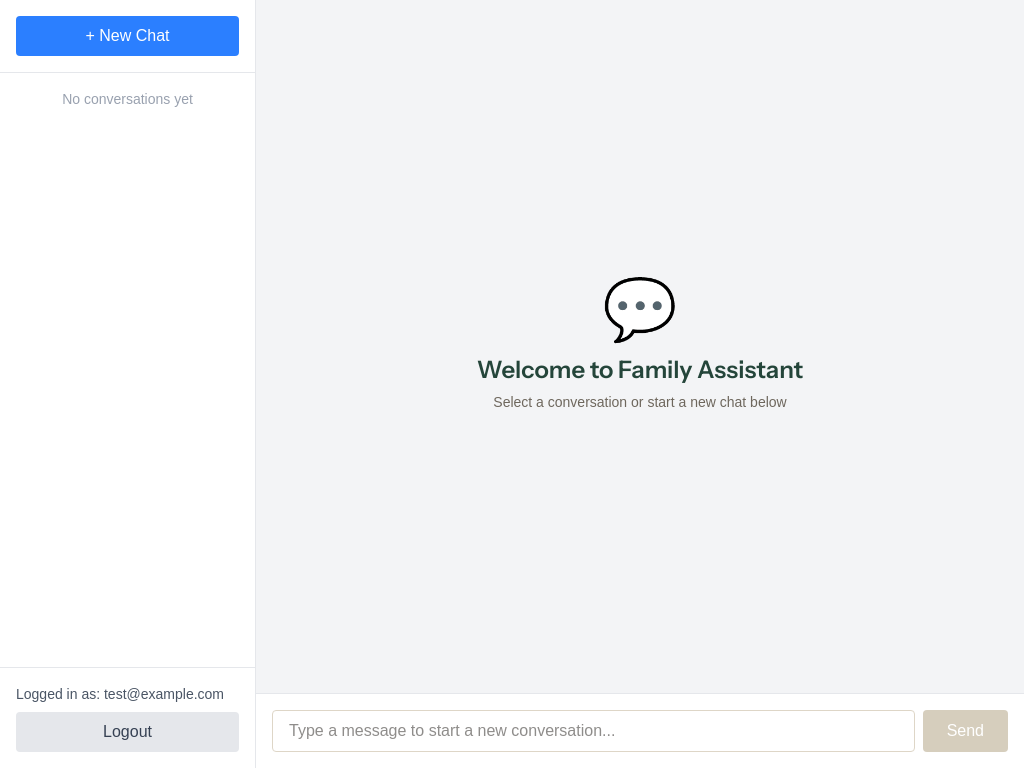
Test: ConversationsChat › New chat flow › shows a Stop button while streaming and aborts the stream when clicked
Type "Hello" into the field with placeholder "Type a message to start a new conversation...". click: (593,731)
box: [272,710,915,752]
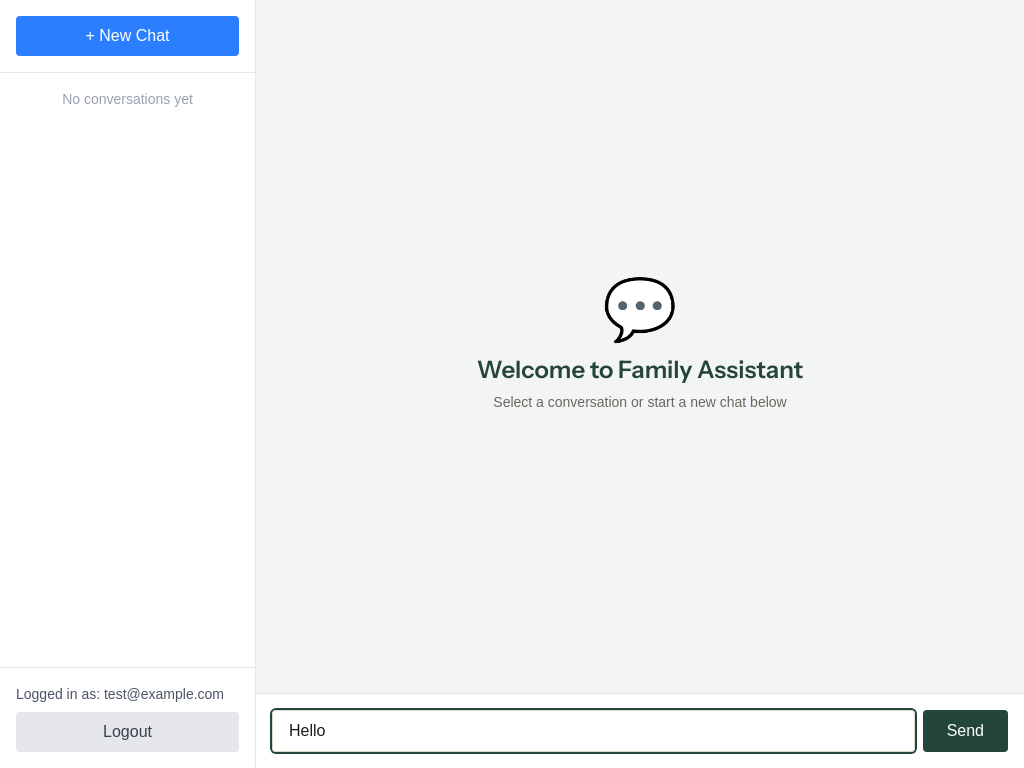
Click the button "Send". click: (965,731)
box: [923,710,1008,752]
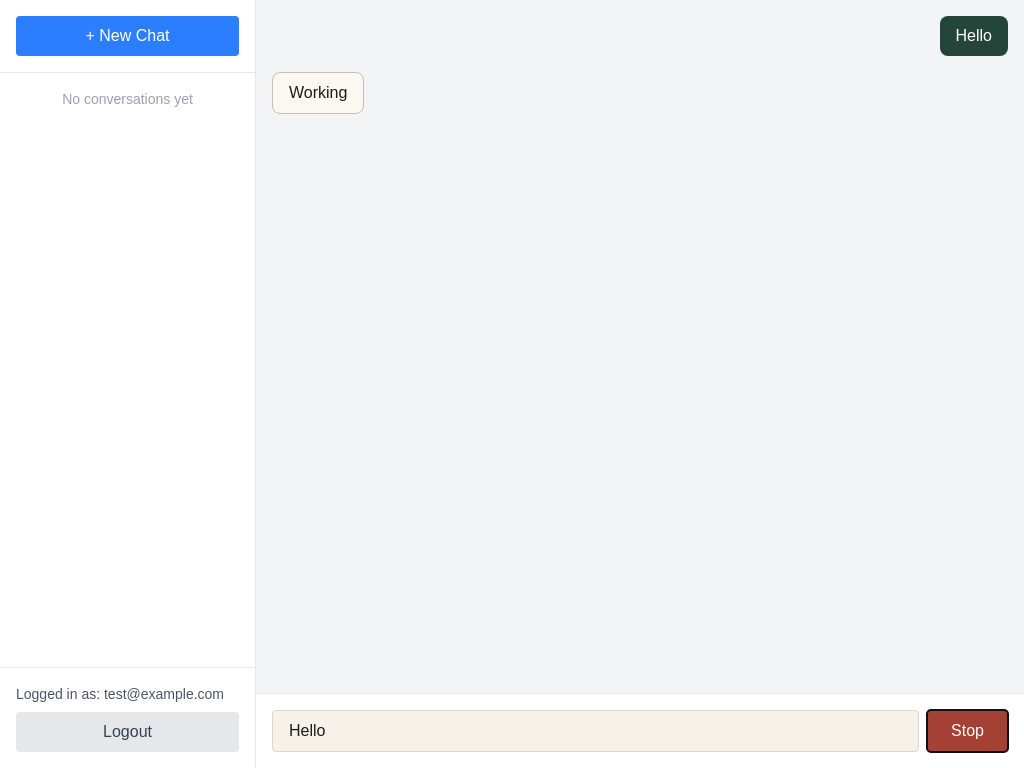
Result: the button "Stop" is shown
Click the button "Stop". click: (968,731)
box: [927,710,1008,752]
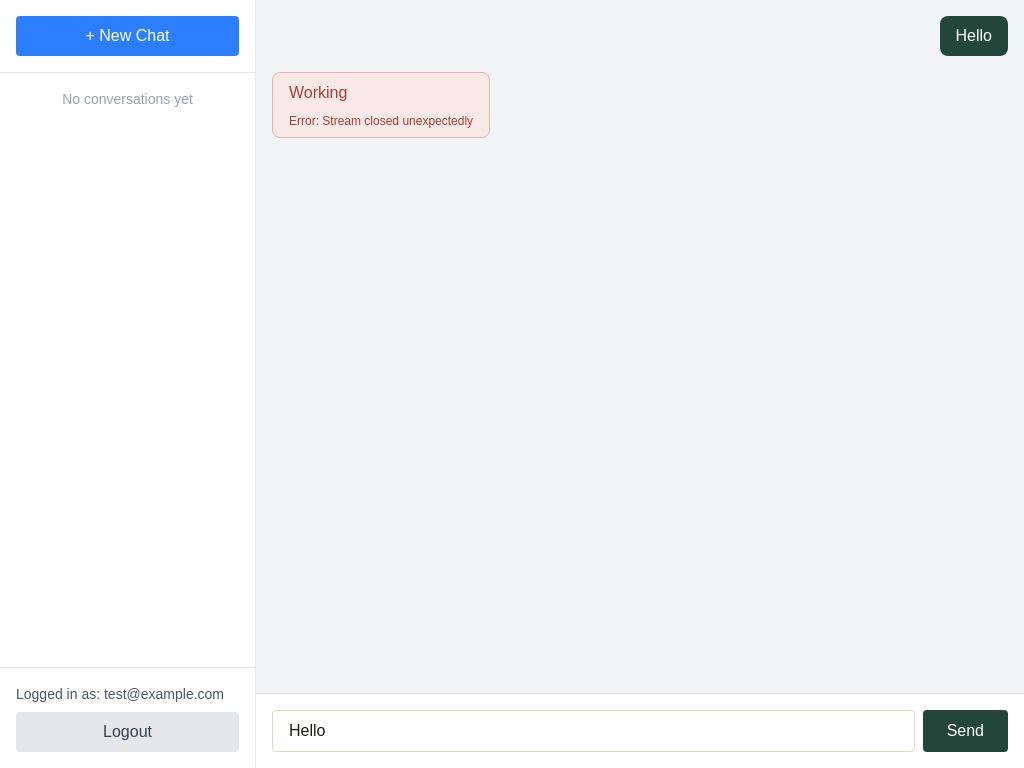
Result: the button "Stop" is gone
